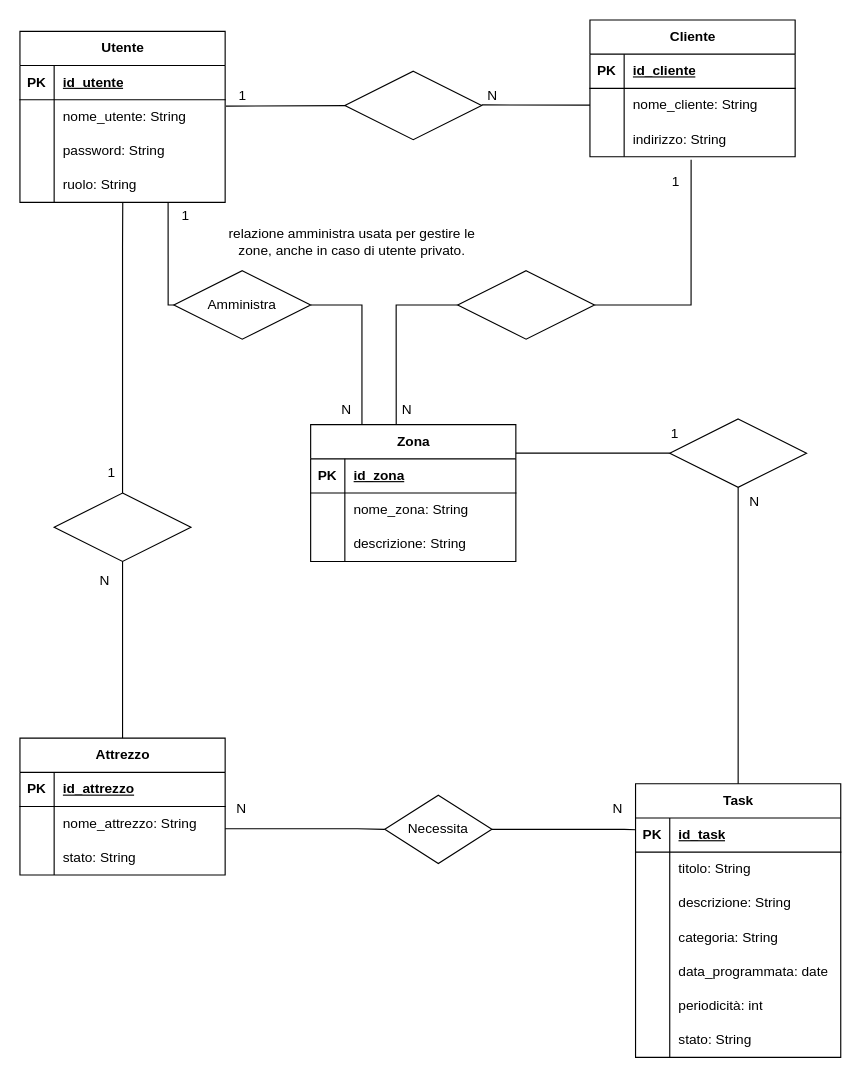
The diagram is 861 pixels wide and 1077 high, and some of its shapes have lost their labels. Here are the shapes that lost their labels. From the top down, the centre of each, then its label:
(x=413, y=105): Gestisce
(x=526, y=304): Possiede
(x=738, y=452): Richiede
(x=122, y=526): Registra
